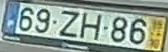6: (127, 16, 148, 46), (17, 5, 34, 32)
8: (109, 15, 128, 44)
9: (34, 6, 50, 34)
H: (79, 10, 103, 42)
Z: (56, 8, 81, 39)
